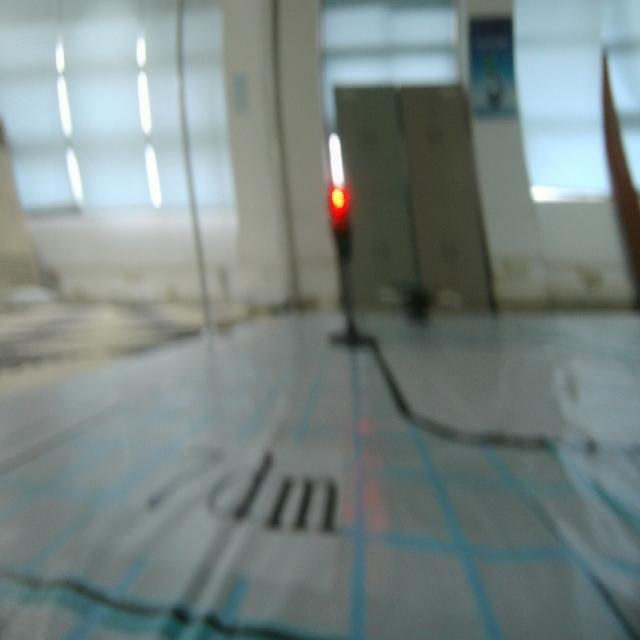red: (326, 184, 354, 269)
